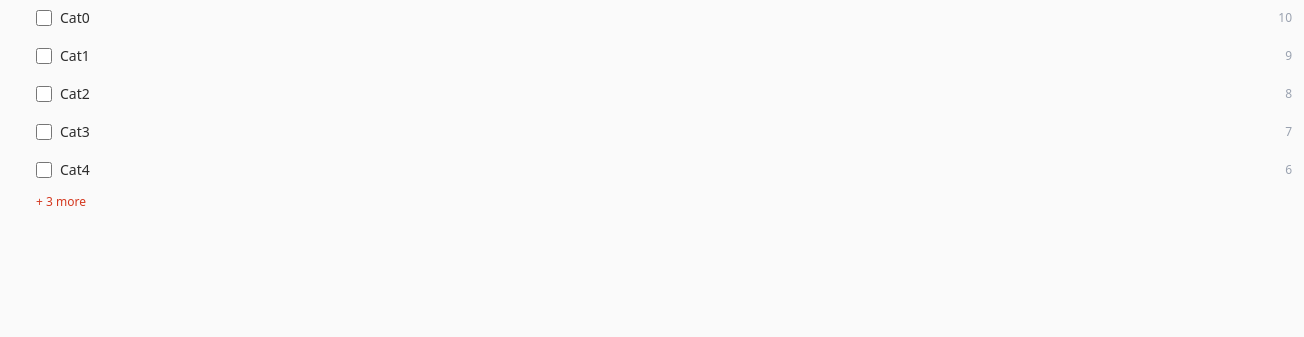
Scenario: CategoryFilter › 超过 5 个大分类时显示"更多"按钮
Expected: the text "Cat0" is shown, [60,8,90,27]
Expected: the text "Cat4" is shown, [60,160,90,179]
Click the button "+ 3 more" at x=61, y=202, box [12,194,1292,210]
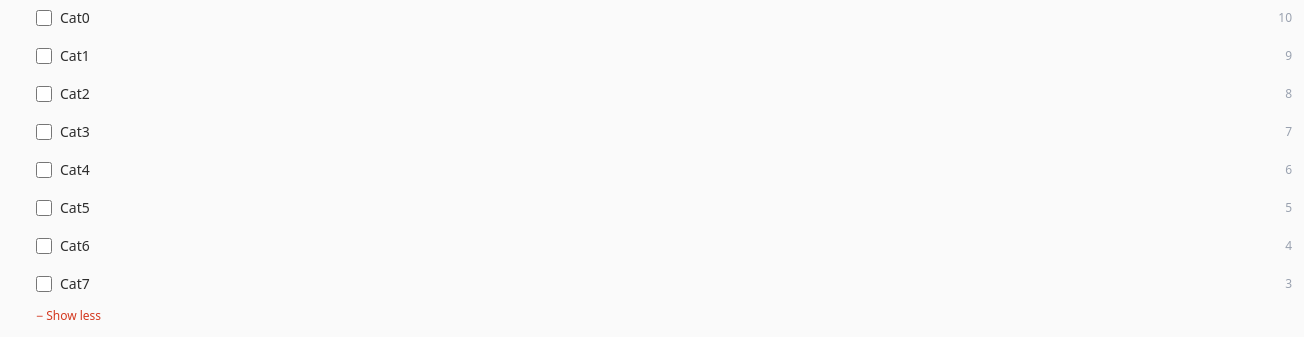
Expected: the text "Cat7" is shown, [60,274,90,293]
